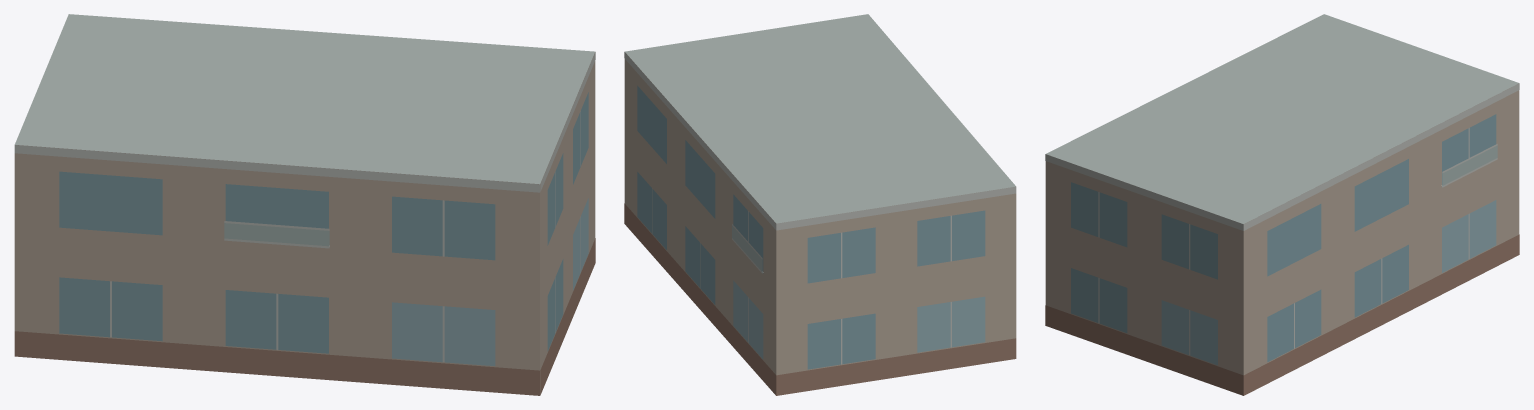
The model's file is survey-upis-32893613.glb.
3 views of the same model, side by side, from view 1: azimuth 30°, elevation 25°; view 2: azimuth 150°, elevation 25°; view 3: azimuth 270°, elevation 25° (orthographic). The views are drawn at different scales.
Parts seen in each view (by area): view 1: survey-upis-32893613.tmp; view 2: survey-upis-32893613.tmp; view 3: survey-upis-32893613.tmp.
Part boxes in pixels (x1,y1,x2,y2): survey-upis-32893613.tmp: (14, 14, 595, 395); survey-upis-32893613.tmp: (624, 14, 1016, 395); survey-upis-32893613.tmp: (1045, 14, 1519, 395).
Size of the model in its own units: 16.03 by 6.1 by 15.27.
